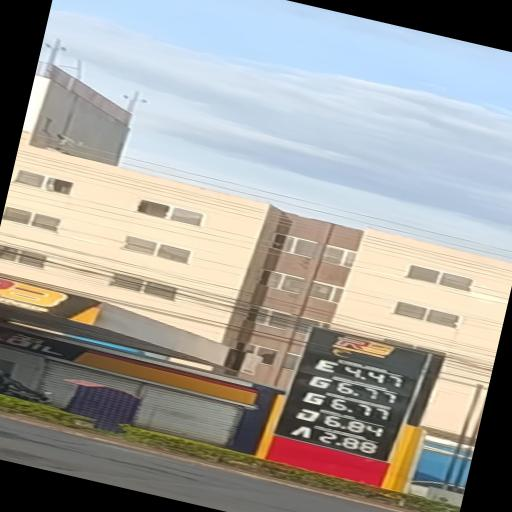ETANOL: (312, 353, 402, 377)
GASOLINA AD: (301, 389, 397, 412)
GASOLINA C: (303, 370, 405, 396)
S10: (294, 403, 393, 429)
placa: (287, 327, 435, 444)
preco: (336, 380, 407, 407), (340, 366, 410, 392), (327, 398, 398, 422), (323, 415, 391, 440)
